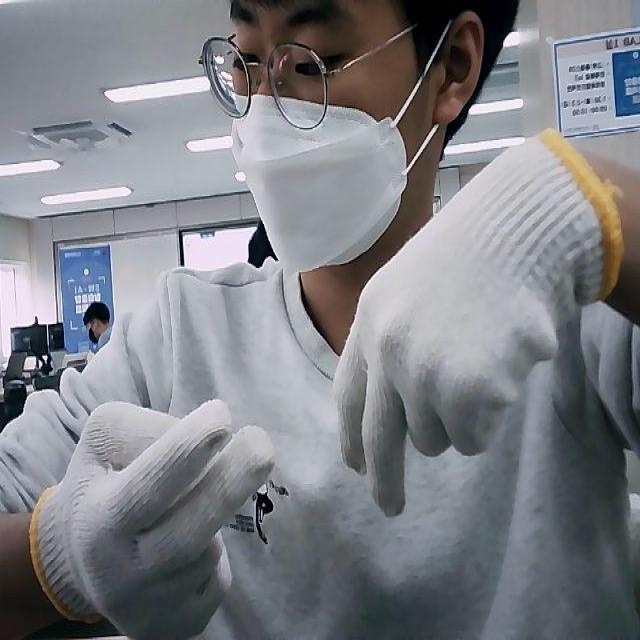gloves: (333, 124, 622, 516), (27, 397, 276, 640)
